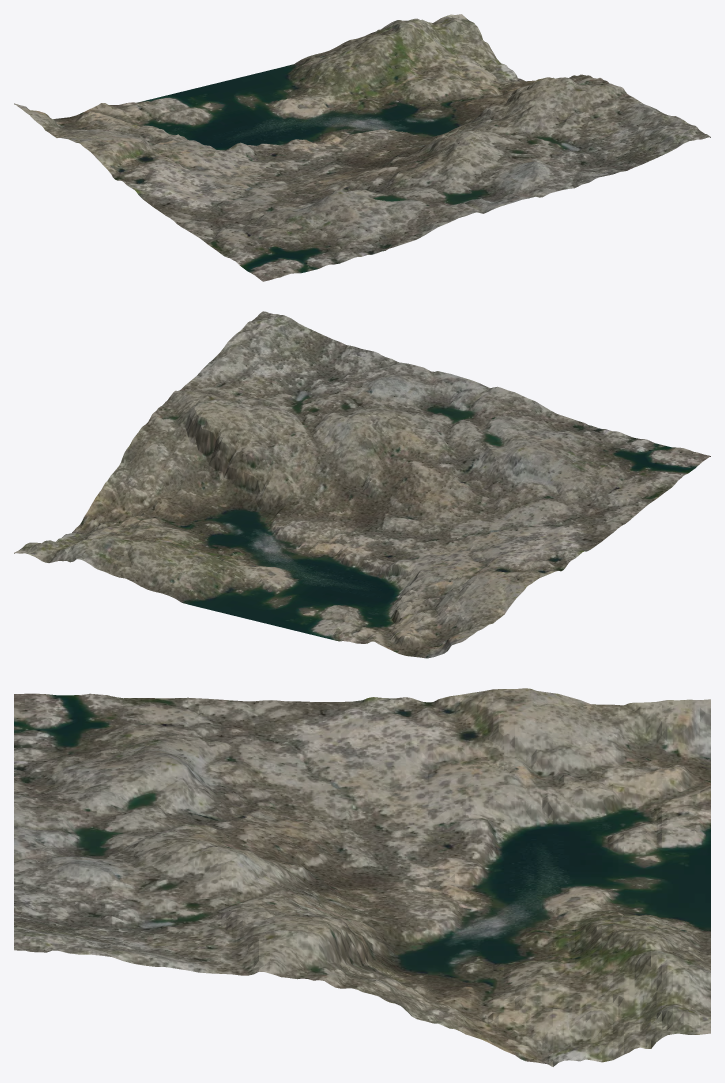
The picture shows the model from 3 angles, top to bottom: view 1: azimuth 30°, elevation 25°; view 2: azimuth 150°, elevation 25°; view 3: azimuth 270°, elevation 25°; orthographic projection. The views are drawn at different scales.
Size of the model in its own units: 1000 by 184 by 963.
Materials: 1 (1 with a texture image).
